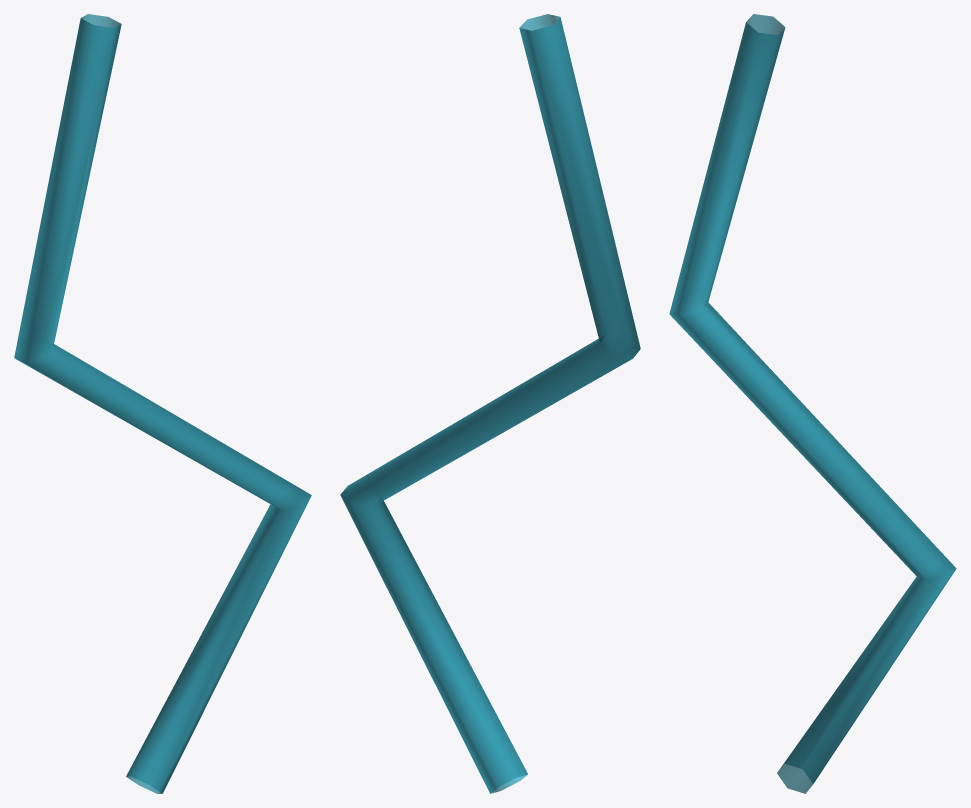
The model's file is Damage_CrackedLens.glb.
3 renders of one model, left to right at view 1: azimuth 30°, elevation 25°; view 2: azimuth 150°, elevation 25°; view 3: azimuth 330°, elevation 25°, orthographic. The views are drawn at different scales.
Visible parts, largest first — view 1: Damage_CrackedLens; view 2: Damage_CrackedLens; view 3: Damage_CrackedLens.
Boxes of the visible parts, x1=… form: Damage_CrackedLens: x1=14, y1=14, x2=311, y2=793; Damage_CrackedLens: x1=340, y1=14, x2=640, y2=793; Damage_CrackedLens: x1=669, y1=14, x2=956, y2=793.
Size of the model in its own units: 0.158 by 0.407 by 0.0258.
